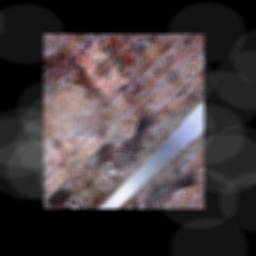Woodpecker: (94, 108, 164, 182)
